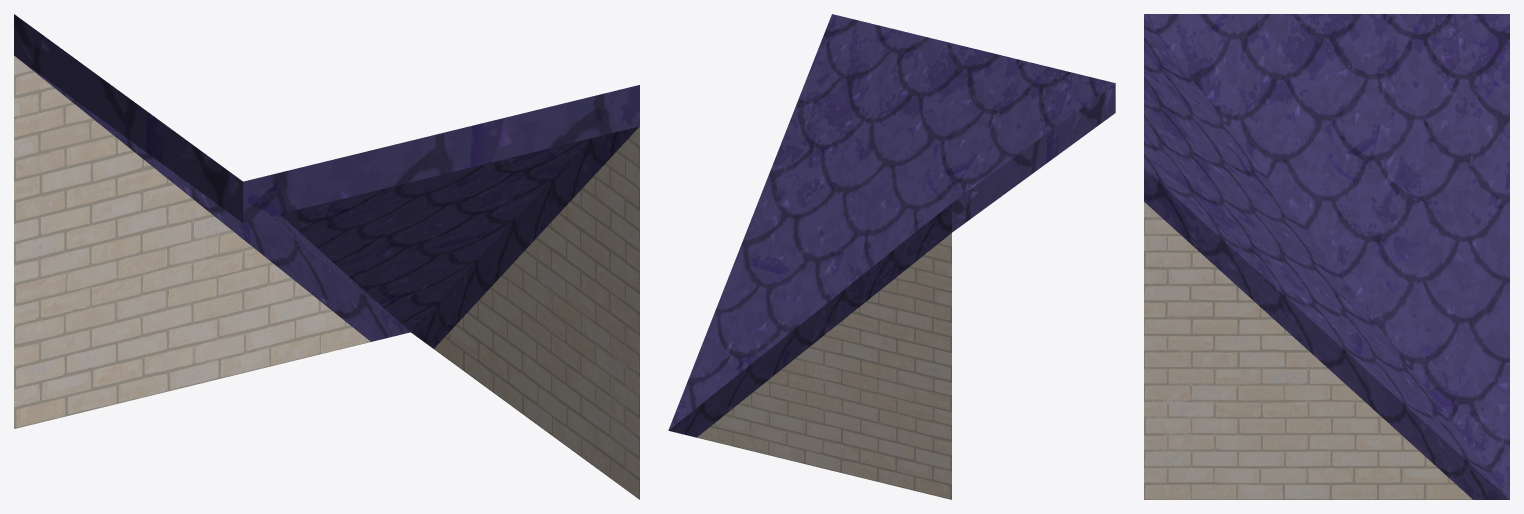
The model's file is Roof_In.fbx.
3 renders of one model, left to right at view 1: azimuth 30°, elevation 25°; view 2: azimuth 150°, elevation 25°; view 3: azimuth 270°, elevation 25°, orthographic. The views are drawn at different scales.
Visible parts, largest first — view 1: Roof_In; view 2: Roof_In; view 3: Roof_In.
Boxes of the visible parts, bbox=[...] form: Roof_In: bbox=[14, 14, 639, 499]; Roof_In: bbox=[668, 14, 1115, 499]; Roof_In: bbox=[1144, 14, 1509, 499].
Size of the model in its own units: 200 by 200 by 200.
